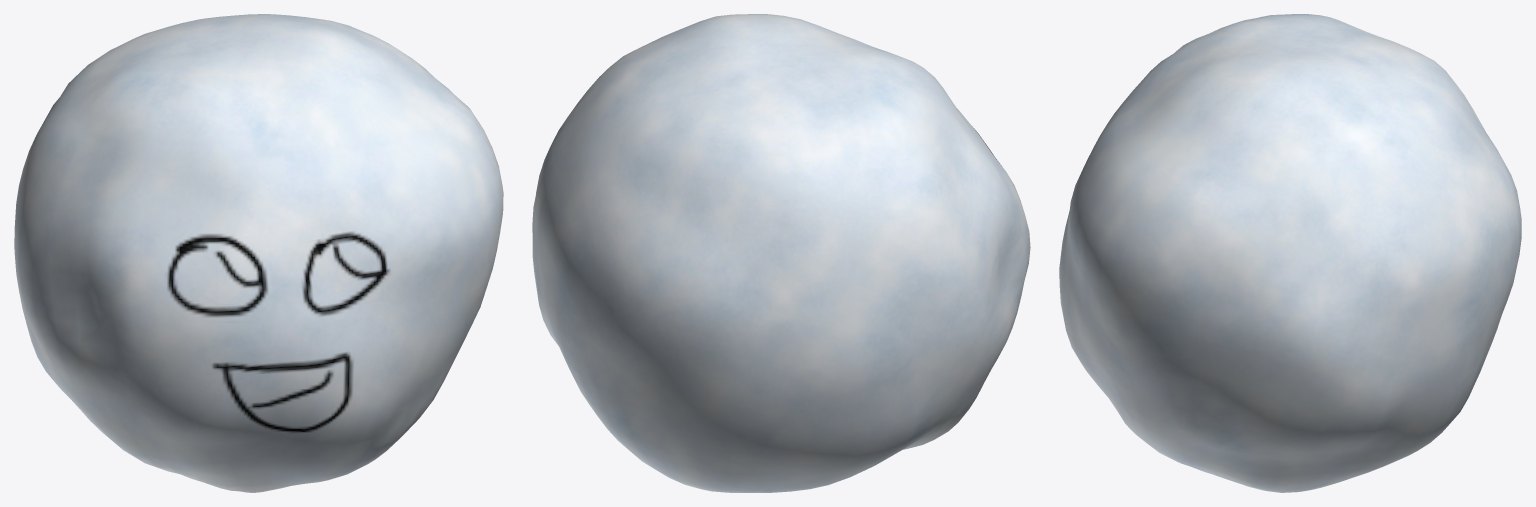
The model's file is snowball.fbx.
3 views of the same model, side by side, from view 1: azimuth 30°, elevation 25°; view 2: azimuth 150°, elevation 25°; view 3: azimuth 270°, elevation 25° (orthographic). The views are drawn at different scales.
Visible parts, largest first — view 1: node_id5; view 2: node_id5; view 3: node_id5.
Boxes of the visible parts, x1,y1,x2,y2 form: node_id5: [14, 14, 503, 492]; node_id5: [532, 14, 1030, 492]; node_id5: [1059, 14, 1521, 492].
Bounding box in the file's own units: 0.512 × 0.4861 × 0.4844.
1 material, 1 textured.
